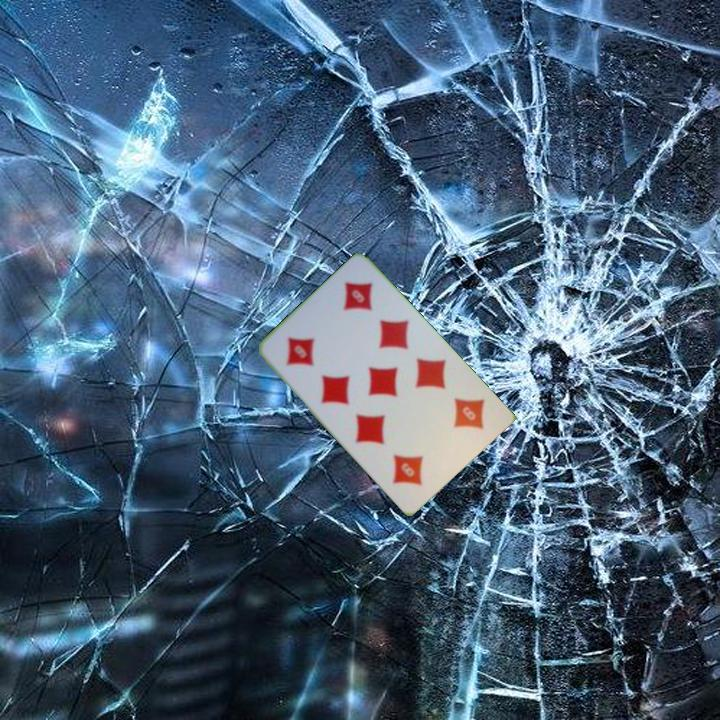d_9.png: (267, 305, 353, 391), (416, 376, 502, 462)
